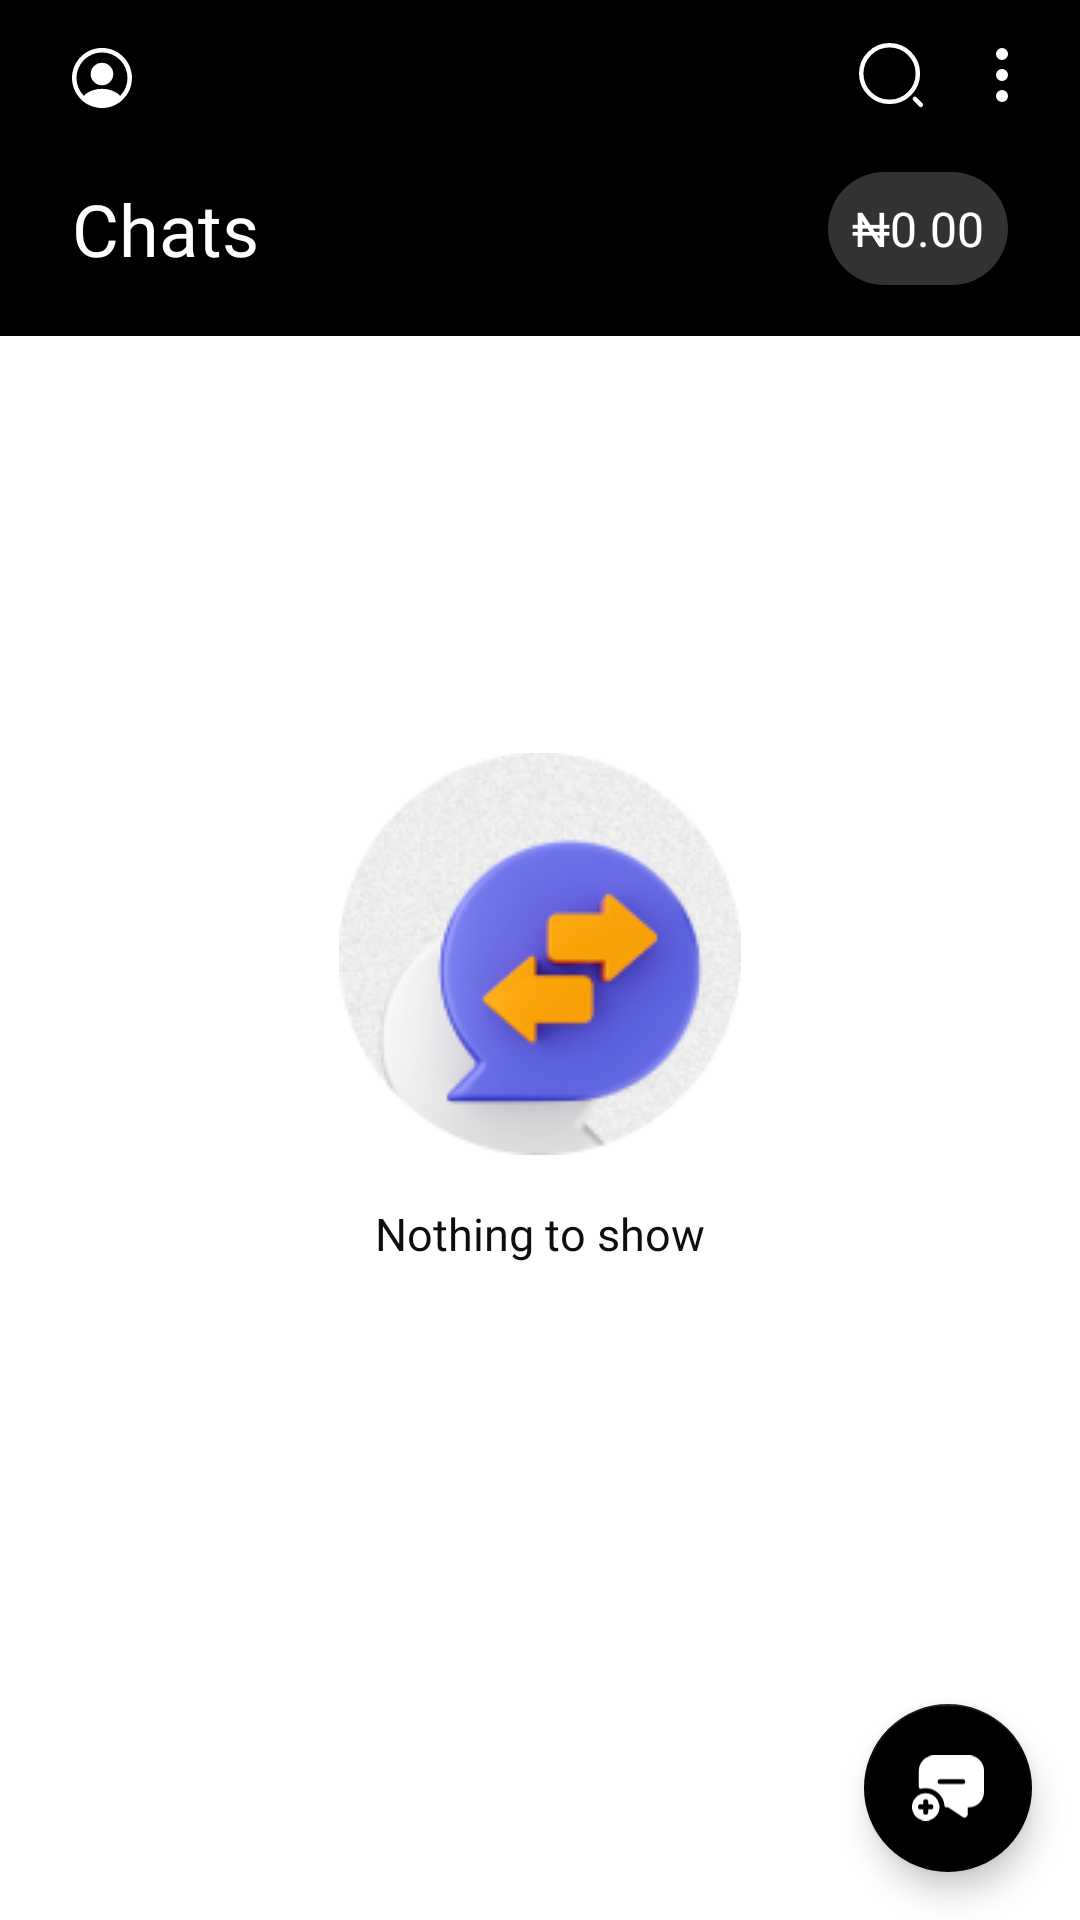

Screen size 1080 × 1920. Icon name, then its box in pixels as region(x1, y1, x2, y2):
search: region(859, 43, 923, 108)
start chat: region(864, 1704, 1032, 1872)
tiny averter: region(72, 48, 132, 108)
